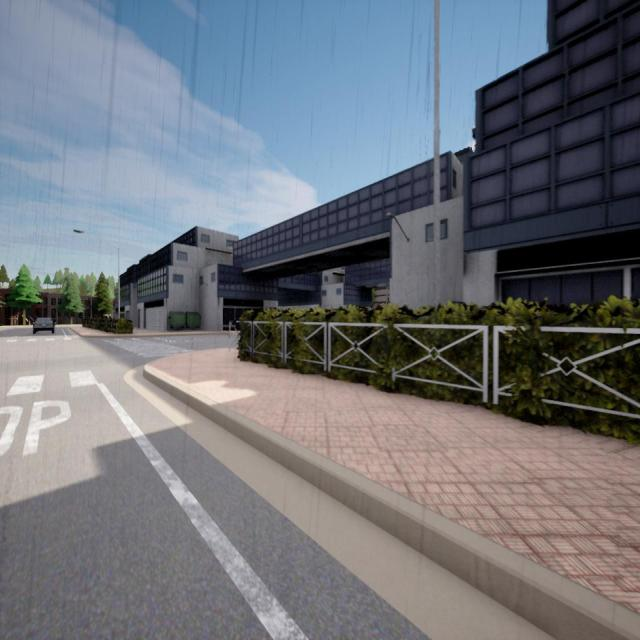Vehicle: (33, 317, 54, 334)
